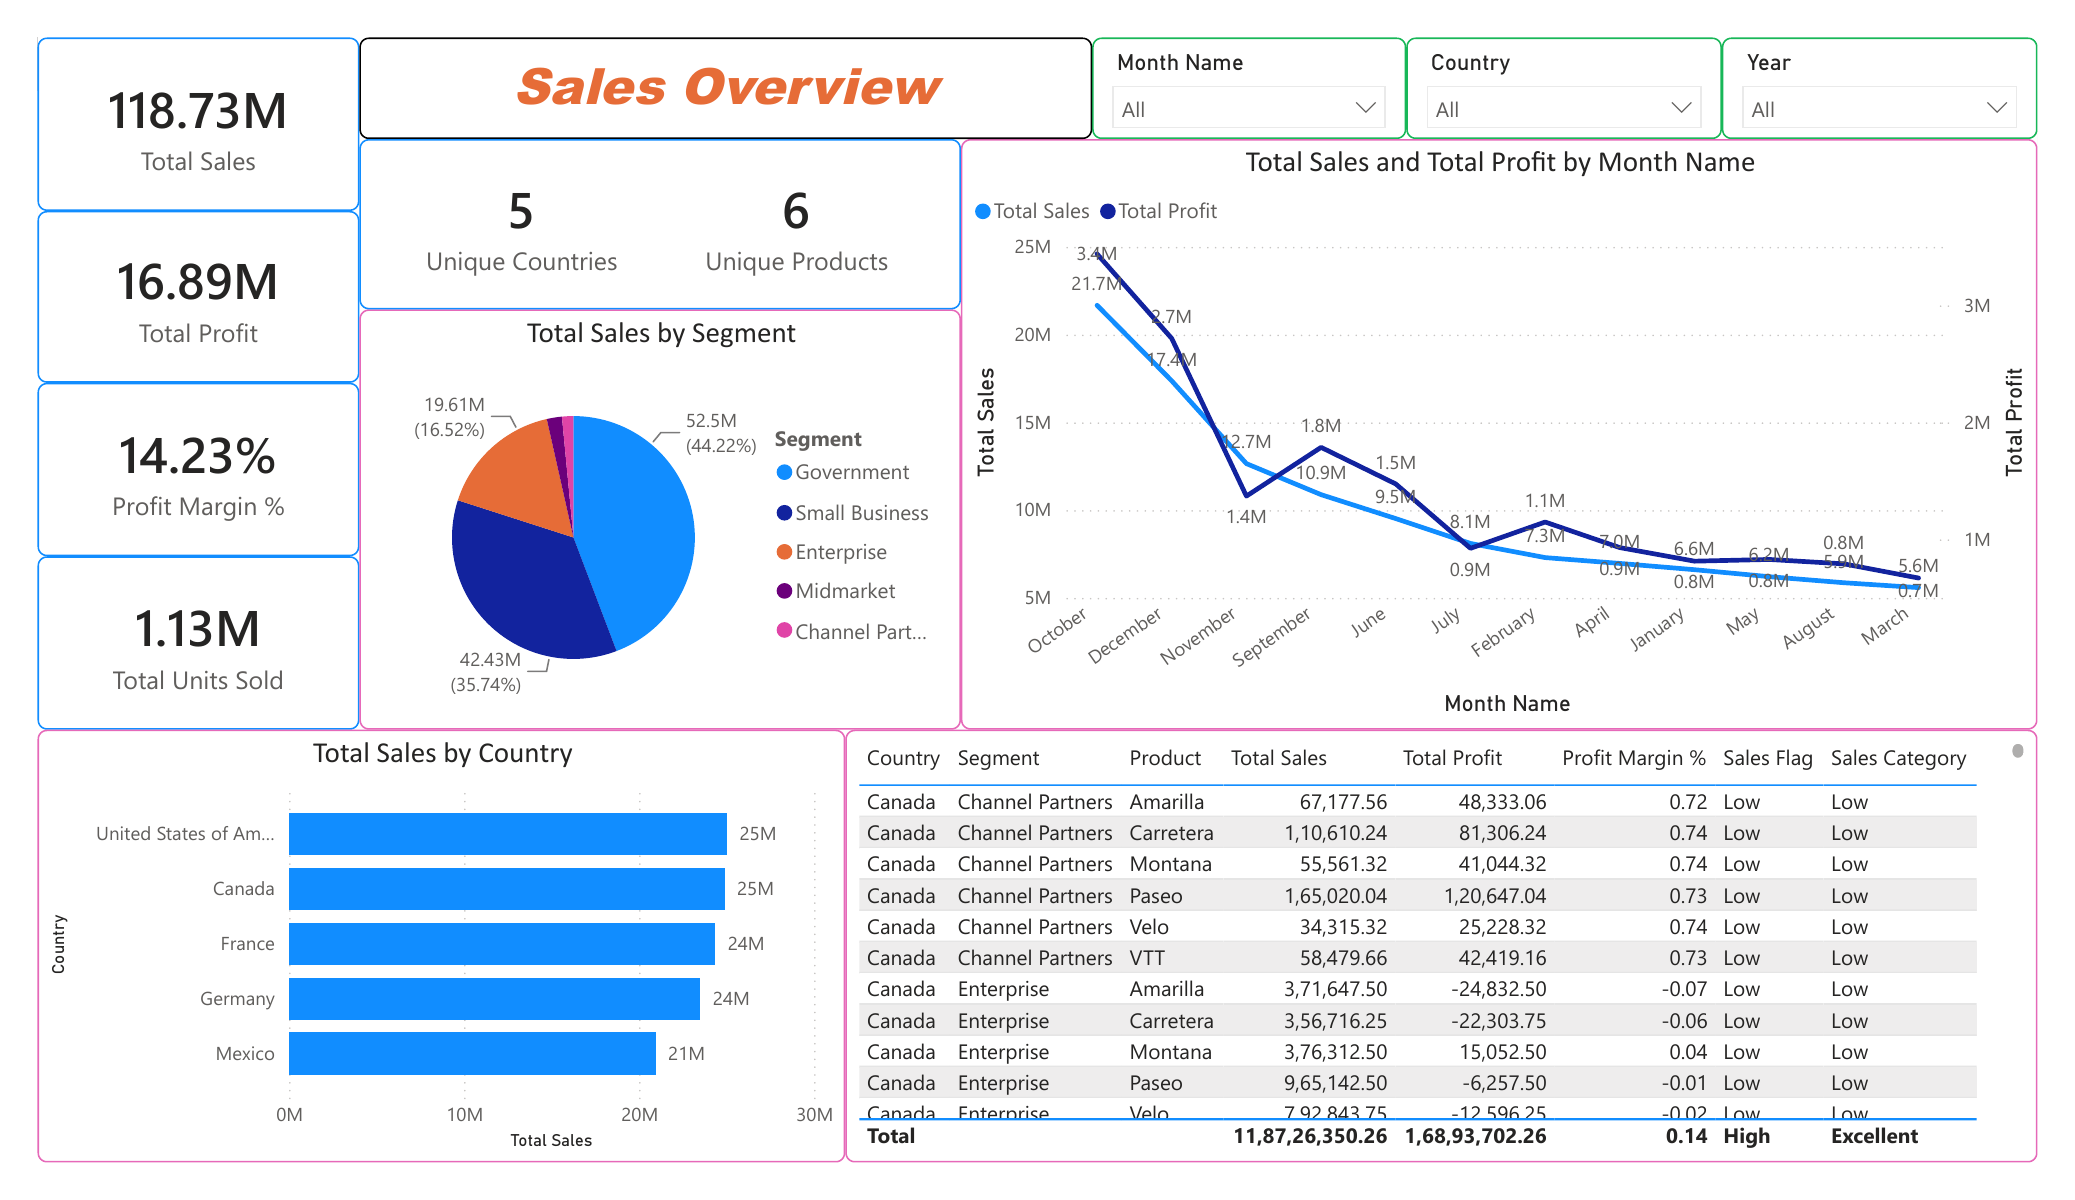

The dashboard page shown, as its layout file describes it:
{"tool":"powerbi","page":{"name":"Sales Overview","canvas":[1280,720],"ordinal":0},"visuals":[{"type":"cardVisual","title":"SUM()","fields":{"Data":["Measure.Total Sales"]},"box":[0,0,205.9,110.7],"z":0},{"type":"cardVisual","fields":{"Data":["Measure.Total Profit"]},"box":[0,110.7,205.9,110.7],"z":1000},{"type":"cardVisual","fields":{"Data":["Measure.Profit Margin %"]},"box":[0,221.4,205.9,110.7],"z":2000},{"type":"cardVisual","fields":{"Data":["Measure.Total Units Sold"]},"box":[0,332.2,205.9,110.7],"z":3000},{"type":"slicer","fields":{"Values":["financials.Month Name"]},"box":[674.7,0,201.8,65.2],"z":4000},{"type":"slicer","fields":{"Values":["financials.Country"]},"box":[876.4,0,201.8,65.2],"z":5000},{"type":"slicer","fields":{"Values":["financials.Year"]},"box":[1078.2,0,201.8,65.2],"z":6000},{"type":"clusteredBarChart","fields":{"Category":["financials.Country"],"Y":["Measure.Total Sales"]},"box":[0,442.9,517.4,277.3],"z":7000},{"type":"lineChart","fields":{"Category":["financials.Month Name"],"Y":["Measure.Total Sales"],"Y2":["Measure.Total Profit"]},"box":[590.8,65.2,689.2,377.7],"z":8000},{"type":"textbox","box":[205.9,0,468.7,65.2],"z":9000},{"type":"tableEx","fields":{"Values":["financials.Country","financials.Segment","financials.Product","Measure.Total Sales","Measure.Total Profit","Measure.Profit Margin %","Measure.Sales Flag","Measure.Sales Category"]},"box":[517.4,442.9,762.6,277.3],"z":10000},{"type":"pieChart","fields":{"Category":["financials.Segment"],"Y":["Measure.Total Sales"]},"box":[205.9,173.8,384.9,269],"z":11000},{"type":"cardVisual","fields":{"Data":["Measure.Unique Countries","Measure.Unique Products"]},"box":[205.9,65.2,384.9,108.6],"z":12000}]}

Visuals, with their boxes on the page's 1280x720 design canvas (x1, y1, x2, y2). These are canvas units, not pixel positions in the 2075x1200 screenshot, which may show the page scaled, cropped or inside an application window:
"SUM()" cardVisual: bbox=[0, 0, 206, 111]
cardVisual - Measure.Total Profit: bbox=[0, 111, 206, 221]
cardVisual - Measure.Profit Margin %: bbox=[0, 221, 206, 332]
cardVisual - Measure.Total Units Sold: bbox=[0, 332, 206, 443]
slicer - financials.Month Name: bbox=[675, 0, 876, 65]
slicer - financials.Country: bbox=[876, 0, 1078, 65]
slicer - financials.Year: bbox=[1078, 0, 1280, 65]
clusteredBarChart - financials.Country x Measure.Total Sales: bbox=[0, 443, 517, 720]
lineChart - financials.Month Name x Measure.Total Sales: bbox=[591, 65, 1280, 443]
textbox: bbox=[206, 0, 675, 65]
tableEx - financials.Country x financials.Segment: bbox=[517, 443, 1280, 720]
pieChart - financials.Segment x Measure.Total Sales: bbox=[206, 174, 591, 443]
cardVisual - Measure.Unique Countries x Measure.Unique Products: bbox=[206, 65, 591, 174]
